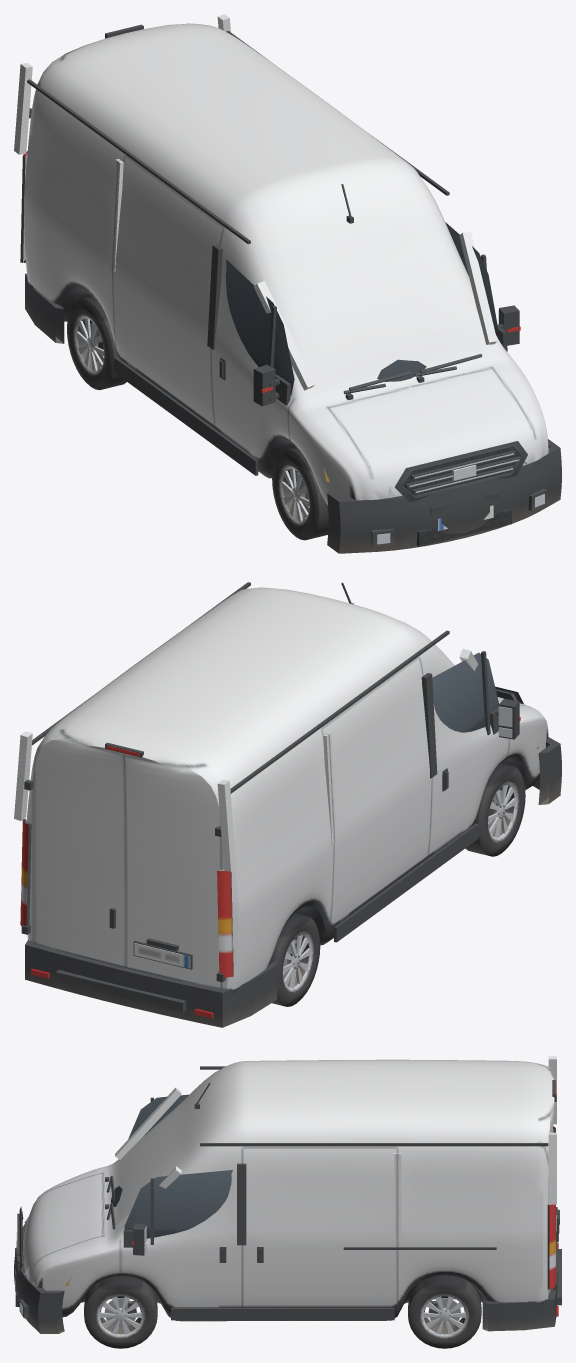
Rendered from CarVan.fbx.
3 views of the same model, one above another, from view 1: azimuth 30°, elevation 25°; view 2: azimuth 150°, elevation 25°; view 3: azimuth 270°, elevation 25° (orthographic). The views are drawn at different scales.
Visible parts, largest first — view 1: CarVan; view 2: CarVan; view 3: CarVan.
Boxes of the visible parts, <box> form: CarVan: <box>14,14,561,553</box>; CarVan: <box>14,582,561,1027</box>; CarVan: <box>14,1056,561,1348</box>.
Size of the model in its own units: 242 by 255 by 558.
1 material, 1 textured.
